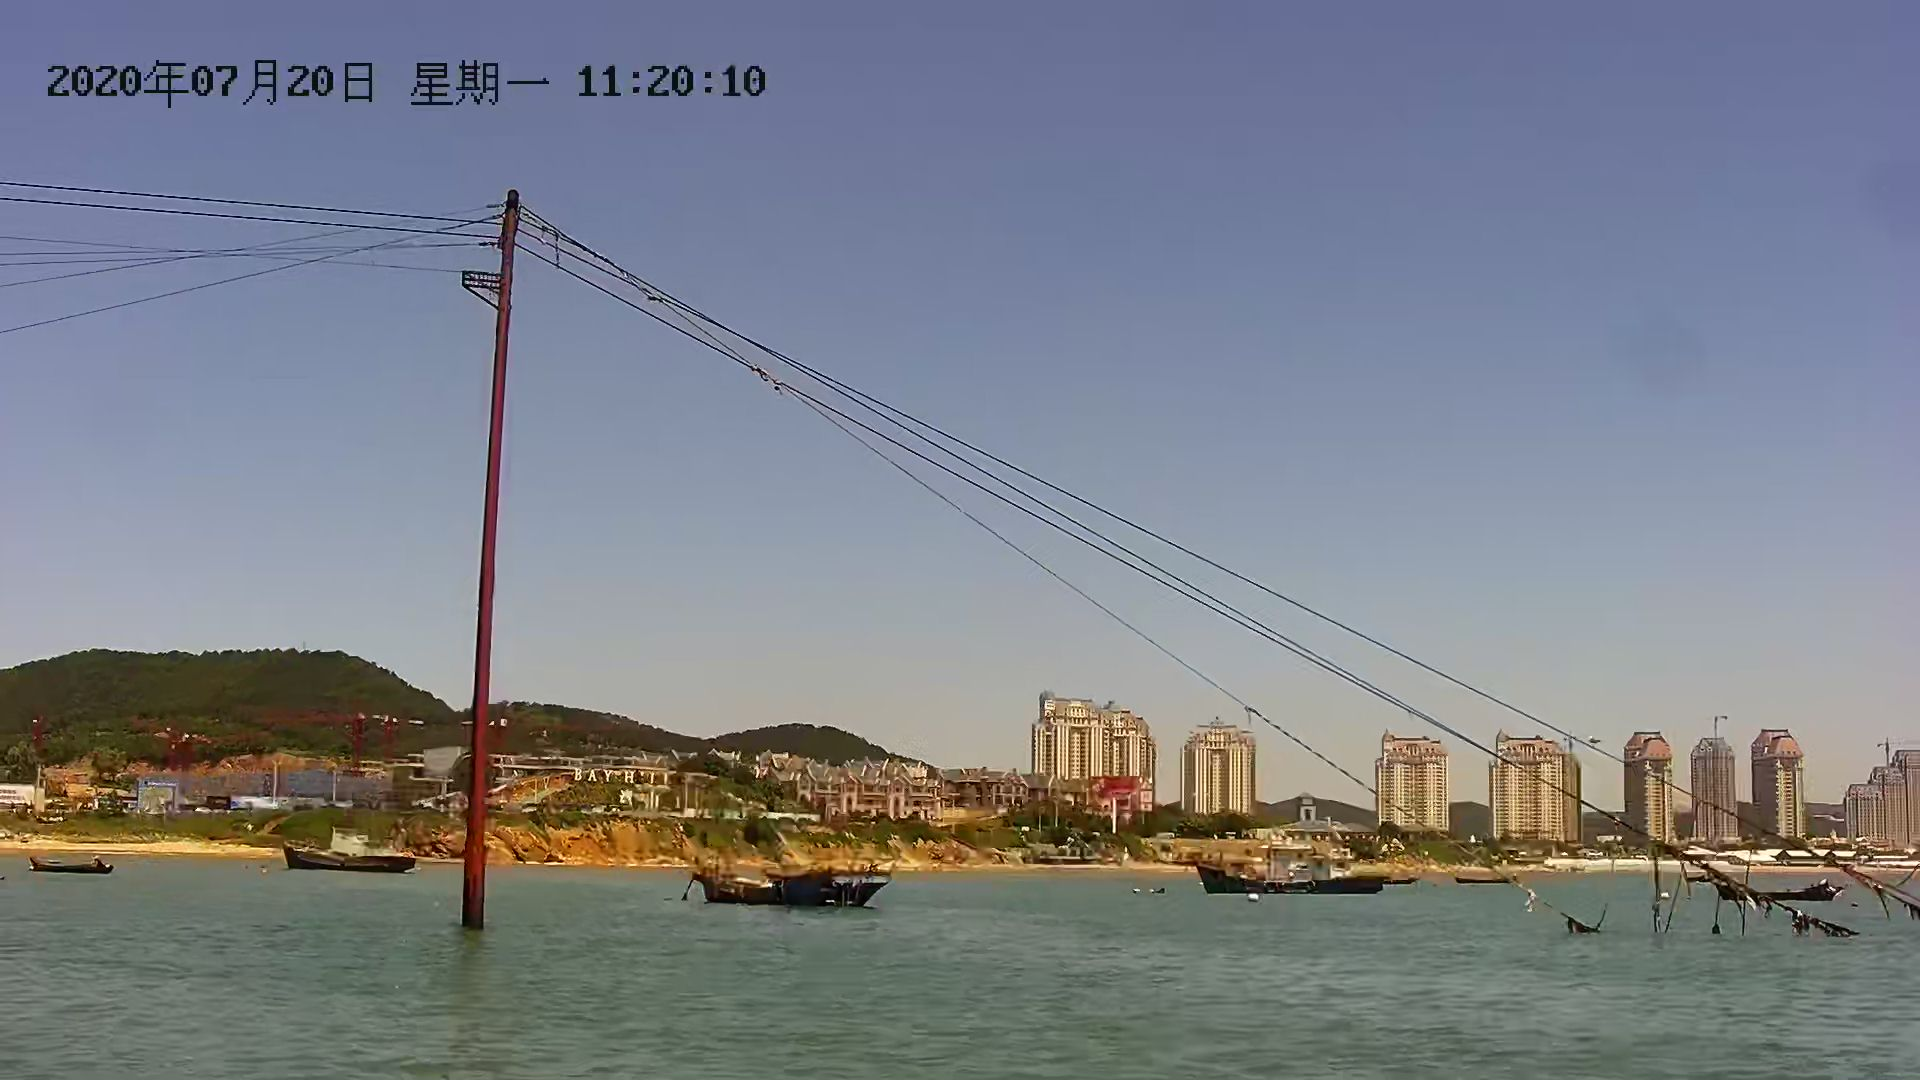boat: (687, 855, 885, 911), (277, 841, 423, 880), (1716, 876, 1847, 909), (18, 849, 120, 880), (1451, 868, 1526, 895)
mast: (458, 194, 529, 944)
ship: (1191, 839, 1386, 902)
